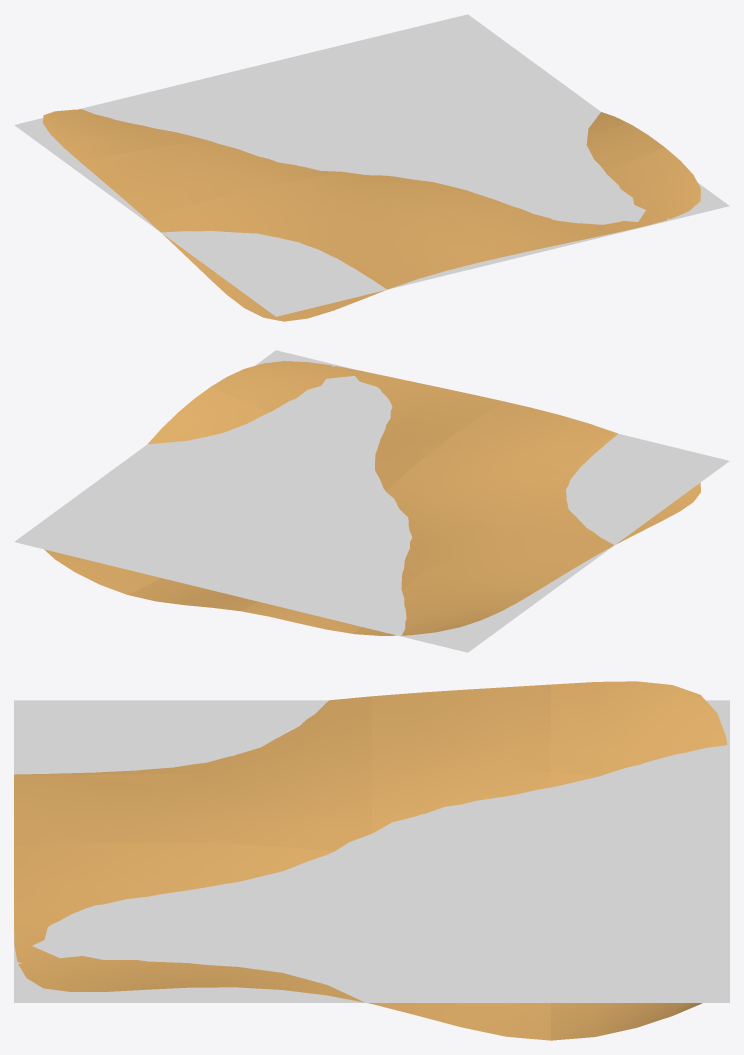
3 renders of one model, top to bottom at view 1: azimuth 30°, elevation 25°; view 2: azimuth 150°, elevation 25°; view 3: azimuth 270°, elevation 25°, orthographic. The views are drawn at different scales.
Visible parts, largest first — view 1: VF-SegmentMeshPreview-TEMP, basemap-Tile-2-2-Tile-3-3-Tile-0-0-Tile-1-0, basemap-Tile-2-2-Tile-3-3-Tile-0-1-Tile-0-2, basemap-Tile-2-2-Tile-3-3-Tile-0-0-Tile-1-1, basemap-Tile-2-2-Tile-3-3-Tile-0-0-Tile-0-1, basemap-Tile-2-2-Tile-3-3-Tile-1-0-Tile-2-0, basemap-Tile-2-2-Tile-3-3-Tile-1-0-Tile-3-0, basemap-Tile-2-2-Tile-3-3-Tile-0-1-Tile-0-3, basemap-Tile-2-2-Tile-3-3-Tile-1-0-Tile-3-1, basemap-Tile-2-2-Tile-3-3-Tile-0-1-Tile-1-2, basemap-Tile-2-2-Tile-3-3-Tile-0-0-Tile-0-0, basemap-Tile-2-2-Tile-3-3-Tile-1-0-Tile-2-1; view 2: VF-SegmentMeshPreview-TEMP, basemap-Tile-2-2-Tile-3-3-Tile-0-0-Tile-1-1, basemap-Tile-2-2-Tile-3-3-Tile-0-0-Tile-1-0, basemap-Tile-2-2-Tile-3-3-Tile-0-1-Tile-0-2, basemap-Tile-2-2-Tile-3-3-Tile-1-0-Tile-2-0, basemap-Tile-2-2-Tile-3-3-Tile-0-1-Tile-0-3, basemap-Tile-2-2-Tile-3-3-Tile-1-0-Tile-3-0, basemap-Tile-2-2-Tile-3-3-Tile-0-0-Tile-0-1, basemap-Tile-2-2-Tile-3-3-Tile-1-0-Tile-3-1, basemap-Tile-2-2-Tile-3-3-Tile-0-1-Tile-1-2, basemap-Tile-2-2-Tile-3-3-Tile-1-1-Tile-2-3, basemap-Tile-2-2-Tile-3-3-Tile-1-1-Tile-3-3 (+3 smaller); view 3: VF-SegmentMeshPreview-TEMP, basemap-Tile-2-2-Tile-3-3-Tile-0-1-Tile-0-2, basemap-Tile-2-2-Tile-3-3-Tile-0-0-Tile-1-1, basemap-Tile-2-2-Tile-3-3-Tile-0-1-Tile-0-3, basemap-Tile-2-2-Tile-3-3-Tile-0-0-Tile-1-0, basemap-Tile-2-2-Tile-3-3-Tile-1-0-Tile-2-0, basemap-Tile-2-2-Tile-3-3-Tile-0-0-Tile-0-1, basemap-Tile-2-2-Tile-3-3-Tile-0-1-Tile-1-2, basemap-Tile-2-2-Tile-3-3-Tile-1-0-Tile-3-0, basemap-Tile-2-2-Tile-3-3-Tile-1-1-Tile-3-2, basemap-Tile-2-2-Tile-3-3-Tile-1-0-Tile-2-1, basemap-Tile-2-2-Tile-3-3-Tile-1-1-Tile-3-3 (+2 smaller).
Part boxes in pixels (x1,y1,x2,y2): VF-SegmentMeshPreview-TEMP: [14, 14, 729, 316]; basemap-Tile-2-2-Tile-3-3-Tile-0-0-Tile-1-0: [324, 207, 502, 288]; basemap-Tile-2-2-Tile-3-3-Tile-0-1-Tile-0-2: [80, 142, 257, 217]; basemap-Tile-2-2-Tile-3-3-Tile-0-0-Tile-1-1: [259, 172, 436, 239]; basemap-Tile-2-2-Tile-3-3-Tile-0-0-Tile-0-1: [145, 188, 323, 279]; basemap-Tile-2-2-Tile-3-3-Tile-1-0-Tile-2-0: [438, 199, 615, 256]; basemap-Tile-2-2-Tile-3-3-Tile-1-0-Tile-3-0: [604, 147, 700, 232]; basemap-Tile-2-2-Tile-3-3-Tile-0-1-Tile-0-3: [43, 109, 192, 161]; basemap-Tile-2-2-Tile-3-3-Tile-1-0-Tile-3-1: [586, 112, 663, 172]; basemap-Tile-2-2-Tile-3-3-Tile-0-1-Tile-1-2: [193, 141, 344, 187]; basemap-Tile-2-2-Tile-3-3-Tile-0-0-Tile-0-0: [211, 239, 389, 321]; basemap-Tile-2-2-Tile-3-3-Tile-1-0-Tile-2-1: [386, 175, 493, 206]; VF-SegmentMeshPreview-TEMP: [14, 350, 729, 652]; basemap-Tile-2-2-Tile-3-3-Tile-0-0-Tile-1-1: [386, 447, 550, 523]; basemap-Tile-2-2-Tile-3-3-Tile-0-0-Tile-1-0: [438, 401, 615, 479]; basemap-Tile-2-2-Tile-3-3-Tile-0-1-Tile-0-2: [420, 524, 598, 593]; basemap-Tile-2-2-Tile-3-3-Tile-1-0-Tile-2-0: [377, 377, 502, 446]; basemap-Tile-2-2-Tile-3-3-Tile-0-1-Tile-0-3: [354, 574, 532, 635]; basemap-Tile-2-2-Tile-3-3-Tile-1-0-Tile-3-0: [211, 361, 389, 412]; basemap-Tile-2-2-Tile-3-3-Tile-0-0-Tile-0-1: [486, 479, 663, 553]; basemap-Tile-2-2-Tile-3-3-Tile-1-0-Tile-3-1: [148, 387, 268, 444]; basemap-Tile-2-2-Tile-3-3-Tile-0-1-Tile-1-2: [399, 508, 484, 574]; basemap-Tile-2-2-Tile-3-3-Tile-1-1-Tile-2-3: [128, 578, 256, 611]; basemap-Tile-2-2-Tile-3-3-Tile-1-1-Tile-3-3: [44, 549, 160, 594]; VF-SegmentMeshPreview-TEMP: [14, 700, 729, 1002]; basemap-Tile-2-2-Tile-3-3-Tile-0-1-Tile-0-2: [372, 684, 550, 772]; basemap-Tile-2-2-Tile-3-3-Tile-0-0-Tile-1-1: [193, 769, 371, 851]; basemap-Tile-2-2-Tile-3-3-Tile-0-1-Tile-0-3: [551, 681, 727, 775]; basemap-Tile-2-2-Tile-3-3-Tile-0-0-Tile-1-0: [14, 773, 192, 845]; basemap-Tile-2-2-Tile-3-3-Tile-1-0-Tile-2-0: [14, 842, 192, 927]; basemap-Tile-2-2-Tile-3-3-Tile-0-0-Tile-0-1: [193, 696, 371, 773]; basemap-Tile-2-2-Tile-3-3-Tile-0-1-Tile-1-2: [372, 768, 550, 833]; basemap-Tile-2-2-Tile-3-3-Tile-1-0-Tile-3-0: [14, 925, 192, 991]; basemap-Tile-2-2-Tile-3-3-Tile-1-1-Tile-3-2: [372, 1003, 550, 1040]; basemap-Tile-2-2-Tile-3-3-Tile-1-0-Tile-2-1: [193, 842, 333, 889]; basemap-Tile-2-2-Tile-3-3-Tile-1-1-Tile-3-3: [551, 1003, 702, 1040].
Bounding box in the file's own units: 5000 × 522 × 5000.
